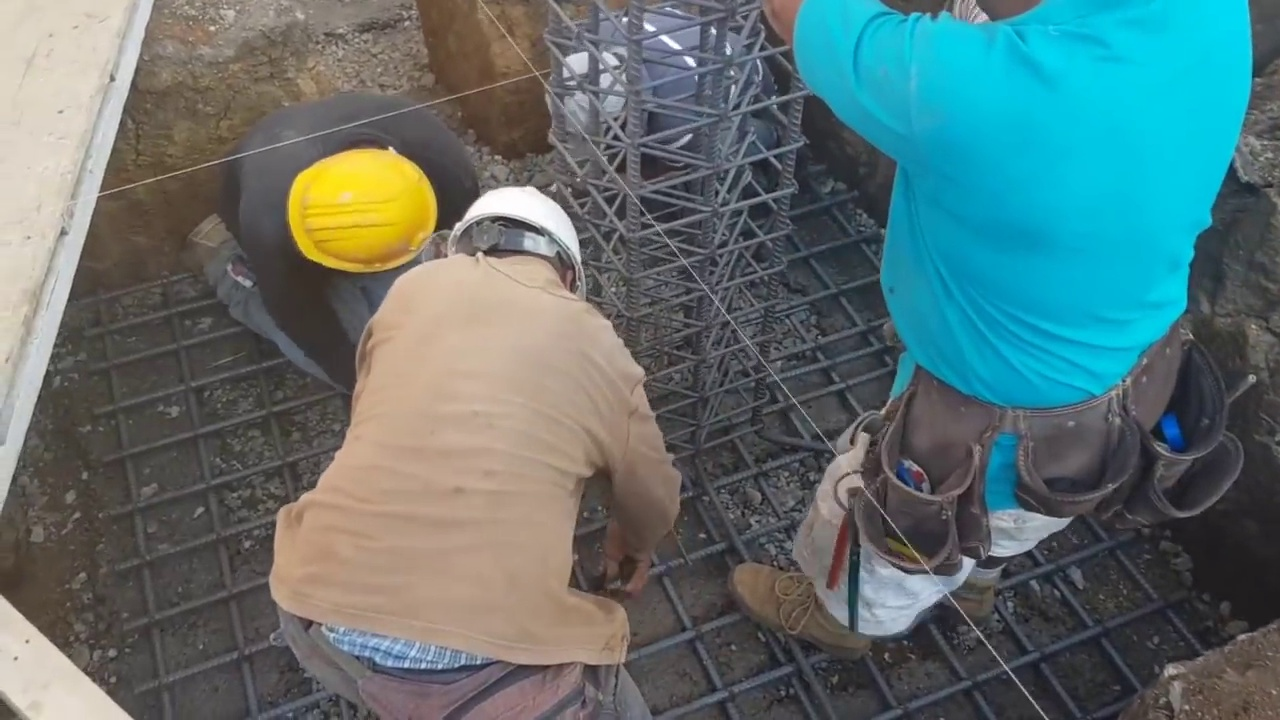helmet: (283, 149, 436, 270), (447, 185, 590, 284)
helmet-off: (542, 39, 636, 160)
helmet-on: (271, 133, 450, 290), (450, 179, 592, 308)
person: (744, 0, 1246, 718), (270, 182, 682, 720), (223, 87, 487, 388), (539, 0, 781, 202)
